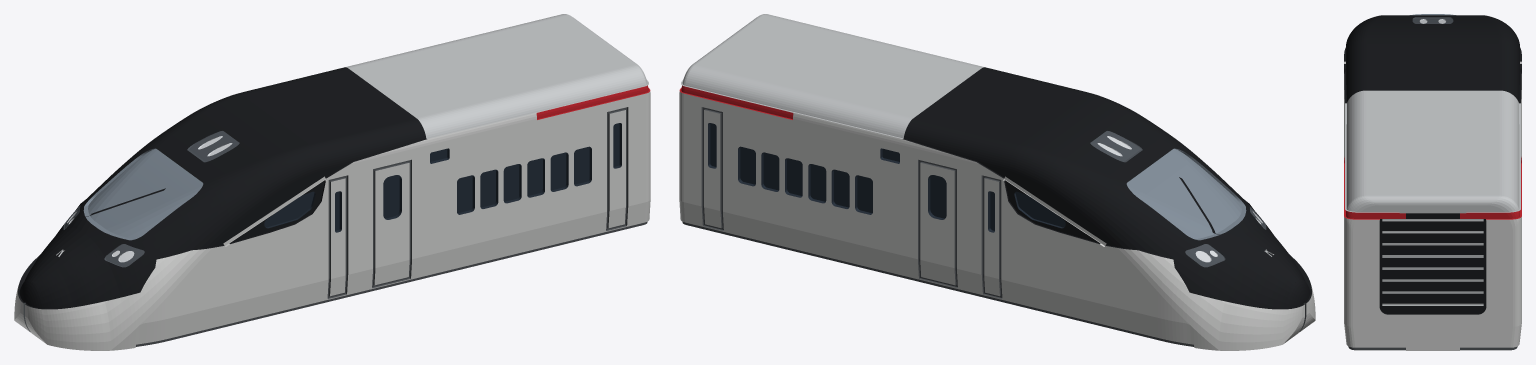
File: emu3000.glb
The picture shows the model from 3 angles, left to right: view 1: azimuth 30°, elevation 25°; view 2: azimuth 150°, elevation 25°; view 3: azimuth 270°, elevation 25°; orthographic projection.
Parts seen in each view (by area): view 1: tr_emu3000; view 2: tr_emu3000; view 3: tr_emu3000.
Boxes of the visible parts, <box> form: tr_emu3000: <box>14,14,650,350</box>; tr_emu3000: <box>679,14,1315,350</box>; tr_emu3000: <box>1344,14,1521,350</box>.
Size of the model in its own units: 150 by 37.6 by 40.
